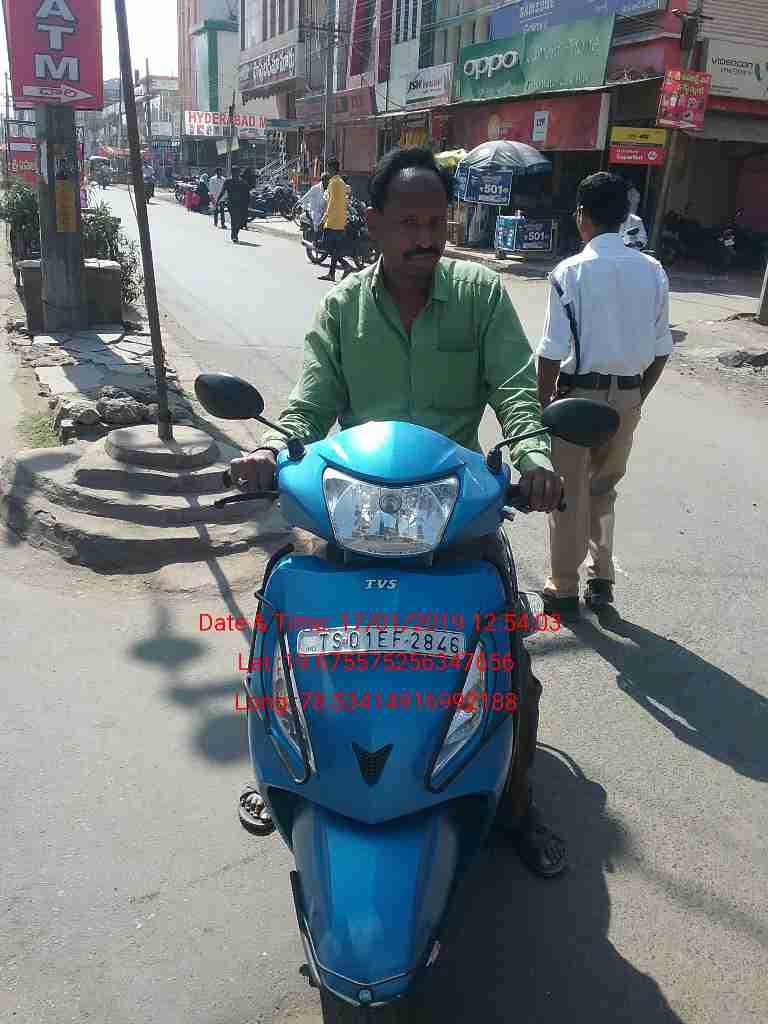plate: (291, 622, 468, 666)
